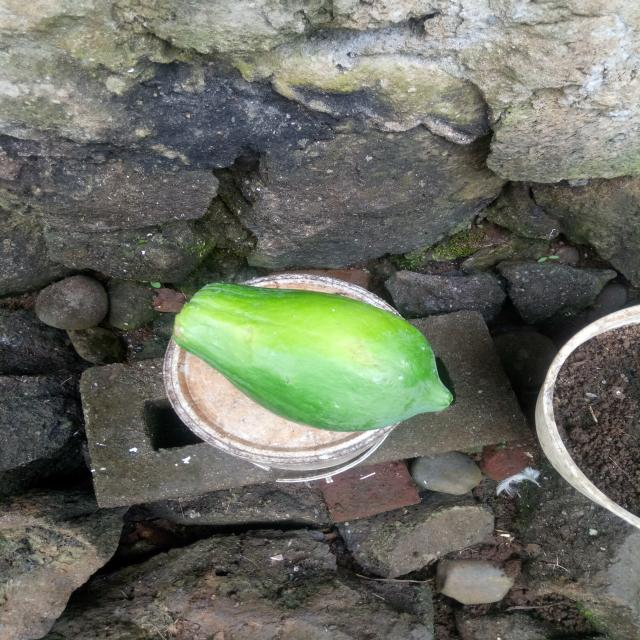Pepaya unrippen: (163, 276, 458, 431)
